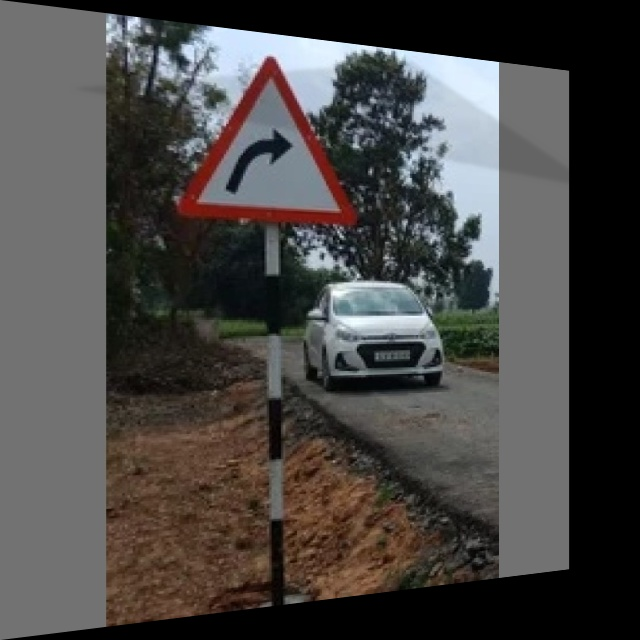Right_Hand_Curve: (180, 48, 354, 223)
